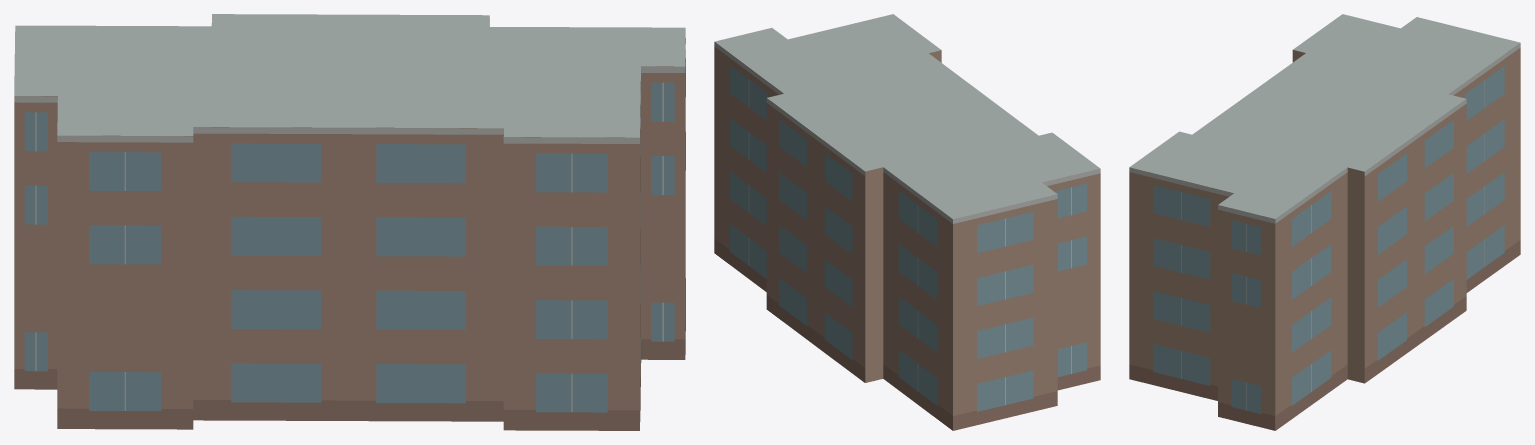
Rendered from survey-upis-32593143.glb.
The picture shows the model from 3 angles, left to right: view 1: azimuth 30°, elevation 25°; view 2: azimuth 150°, elevation 25°; view 3: azimuth 270°, elevation 25°; orthographic projection. The views are drawn at different scales.
Parts seen in each view (by area): view 1: survey-upis-32593143.tmp; view 2: survey-upis-32593143.tmp; view 3: survey-upis-32593143.tmp.
Part boxes in pixels (x1,y1,x2,y2): survey-upis-32593143.tmp: (14,14,685,430); survey-upis-32593143.tmp: (714,14,1100,430); survey-upis-32593143.tmp: (1129,14,1520,430).
Size of the model in its own units: 22.74 by 10.95 by 18.35.
